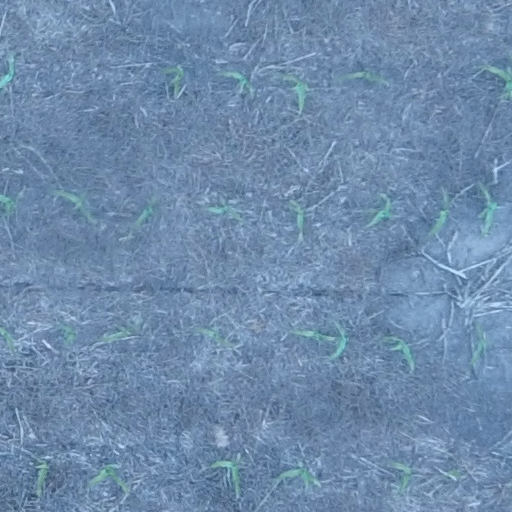planta: (54, 189, 94, 219), (210, 459, 242, 493), (90, 463, 128, 490), (383, 335, 414, 368), (428, 193, 451, 237), (280, 74, 306, 111), (480, 186, 496, 233), (367, 195, 391, 226), (197, 328, 234, 348), (279, 468, 321, 485), (328, 323, 347, 359), (471, 324, 488, 364), (338, 70, 386, 84), (220, 71, 252, 92), (208, 204, 244, 222), (133, 201, 157, 228), (162, 66, 184, 93), (287, 198, 305, 230), (393, 462, 412, 490), (99, 326, 134, 341), (291, 328, 334, 340), (37, 461, 49, 492), (60, 324, 75, 344)
